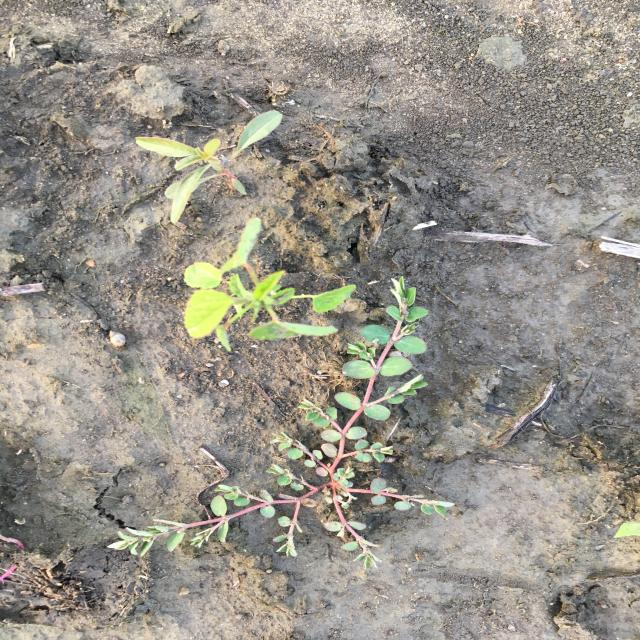PricklySida: (180, 214, 360, 355)
SpottedSpurge: (104, 274, 458, 570)
Waterhemp: (134, 108, 285, 224)
